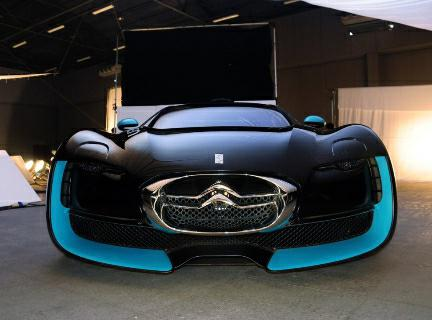雪铁龙-Survolt: (43, 102, 402, 282)
